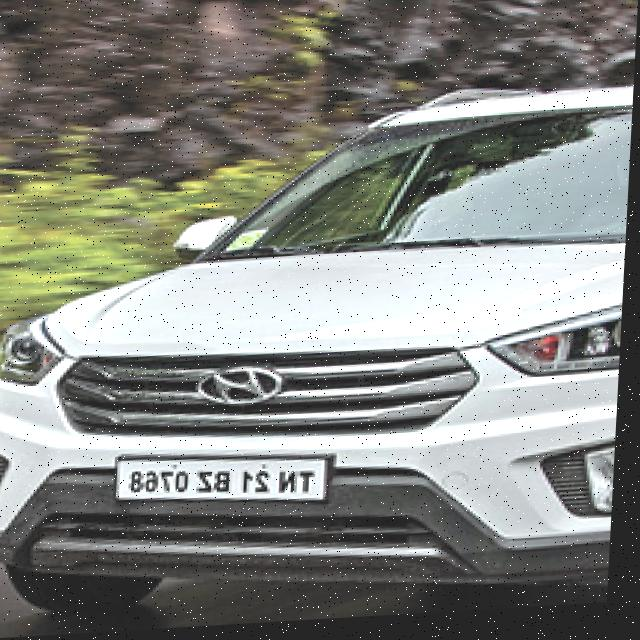plate: (118, 446, 346, 516)
